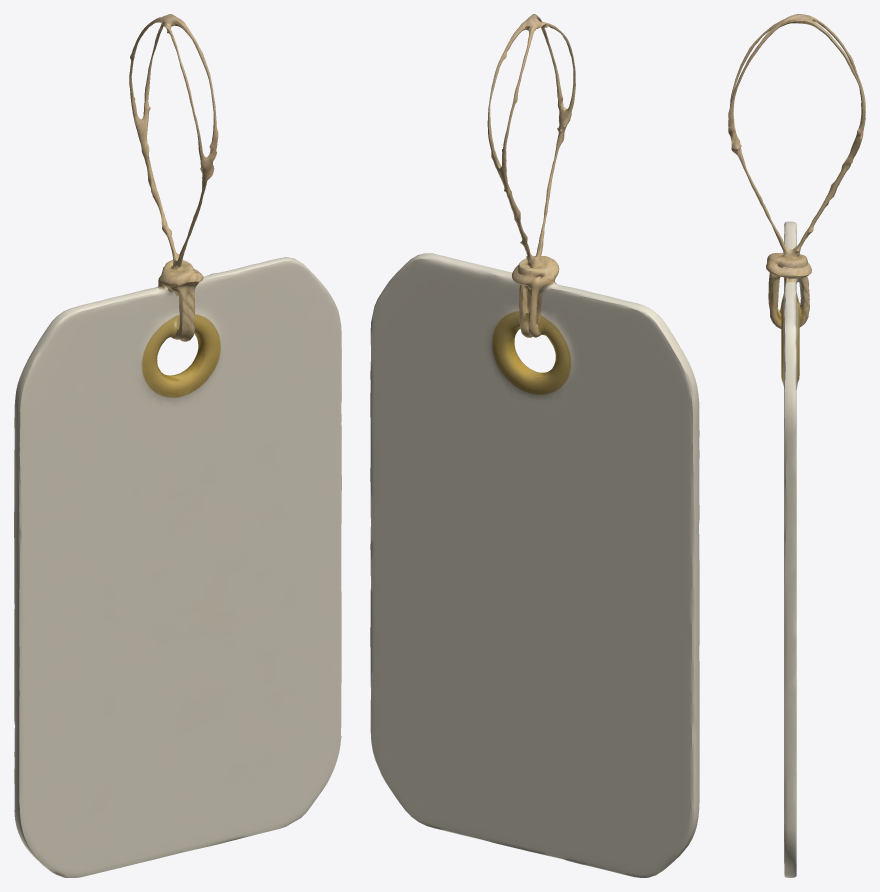
File: tag.glb
3 renders of one model, left to right at view 1: azimuth 30°, elevation 25°; view 2: azimuth 150°, elevation 25°; view 3: azimuth 270°, elevation 25°, orthographic. The views are drawn at different scales.
Parts seen in each view (by area): view 1: Mesh0; view 2: Mesh0; view 3: Mesh0.
Part boxes in pixels (bbox=[...]): Mesh0: bbox=[14, 14, 341, 877]; Mesh0: bbox=[370, 14, 699, 877]; Mesh0: bbox=[728, 14, 865, 877].
Size of the model in its own units: 0.7696 by 1.9 by 0.2916.
1 material, 1 textured.
